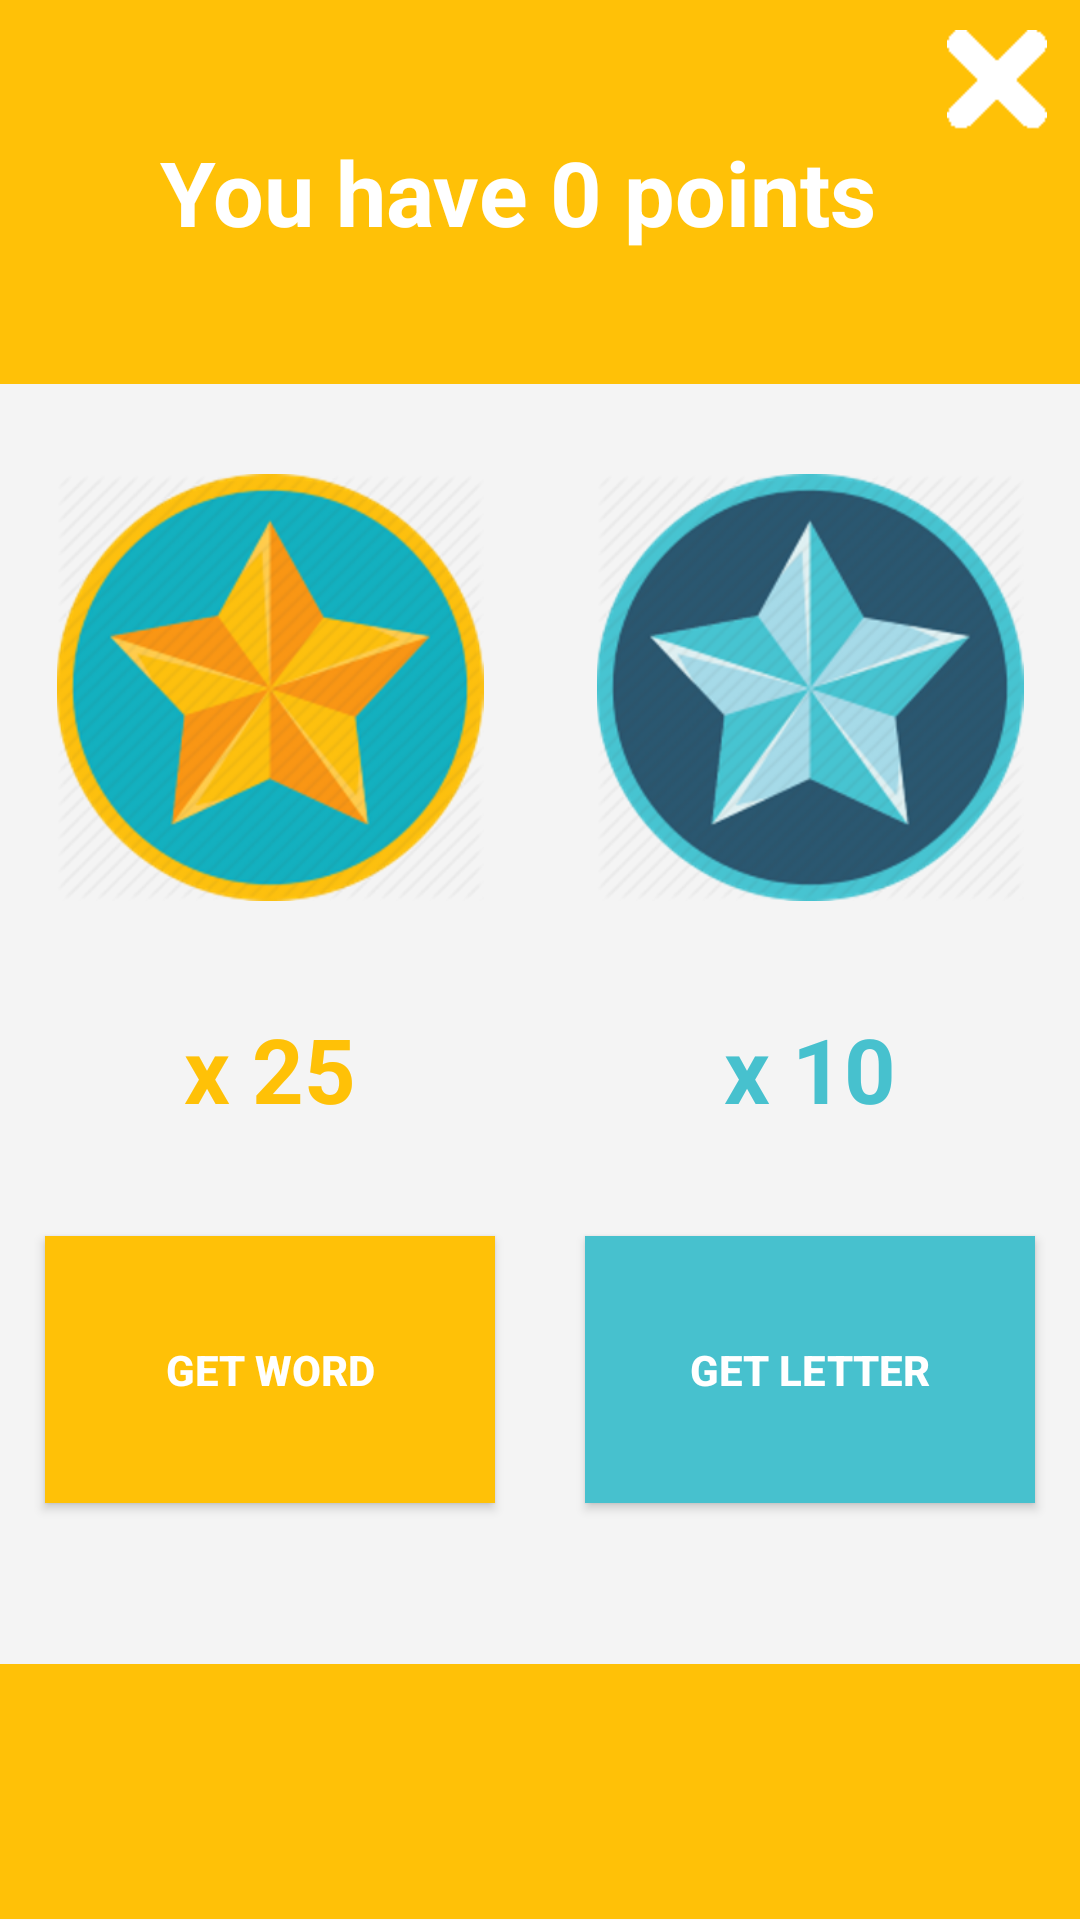

Named icons in this screenshot (1080x1920) and their bounding boxes, box=[x1, y1, x2, y2]:
exit: box=[947, 30, 1047, 129]
